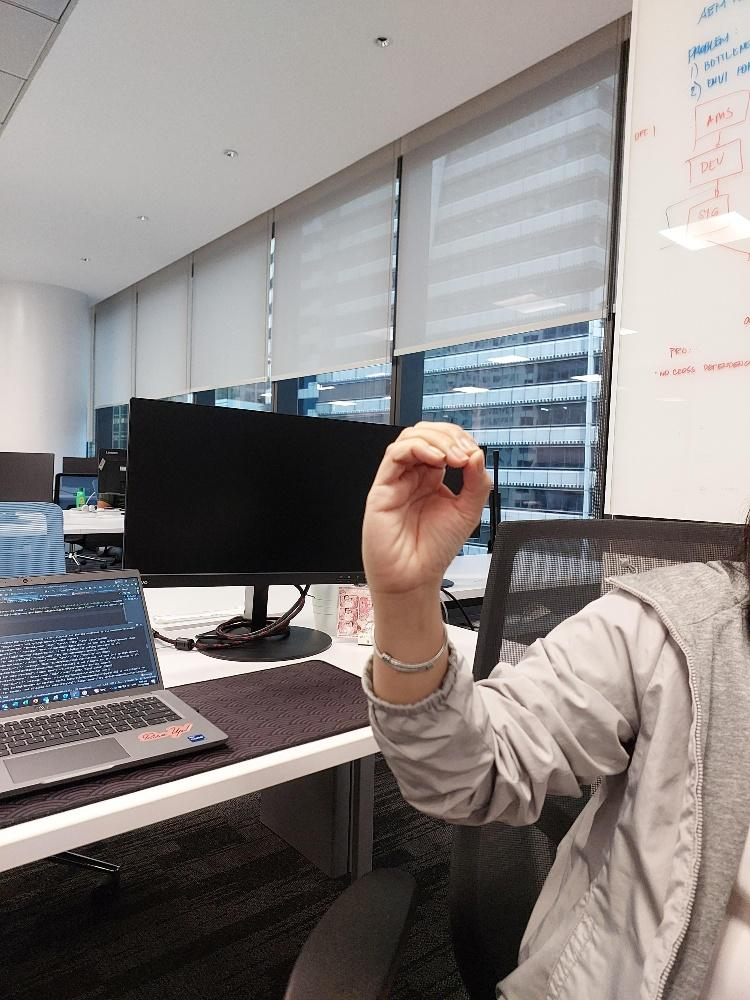o: (359, 421, 494, 593)
